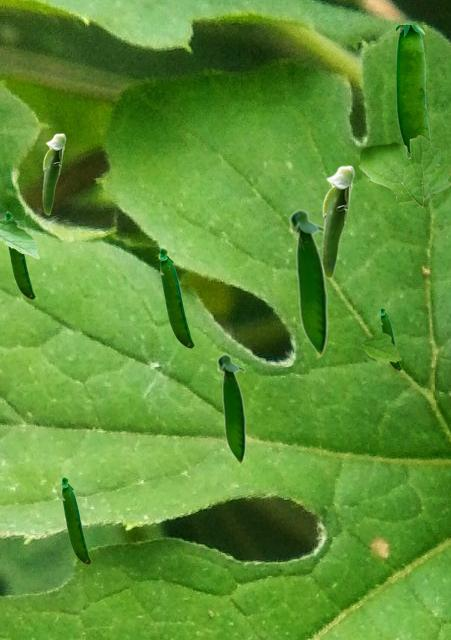pea: (288, 208, 327, 359), (396, 25, 431, 155), (321, 165, 354, 278), (159, 247, 193, 347), (216, 353, 245, 466), (5, 211, 34, 298), (61, 476, 90, 563), (42, 133, 65, 214), (380, 307, 400, 369)
